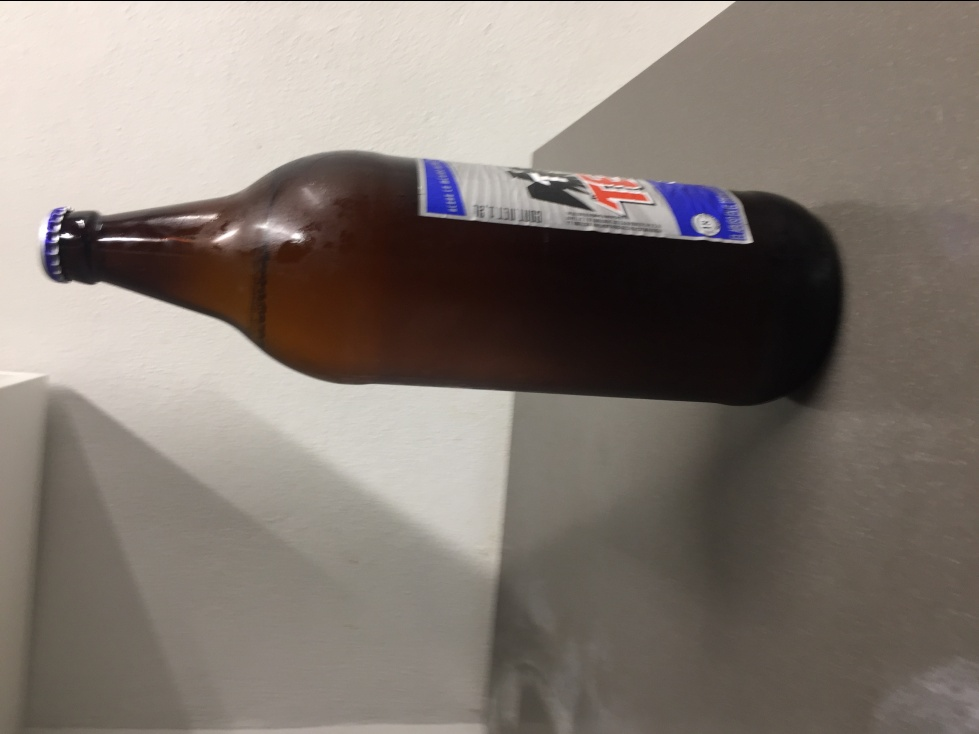tecateC: (35, 146, 845, 409)
